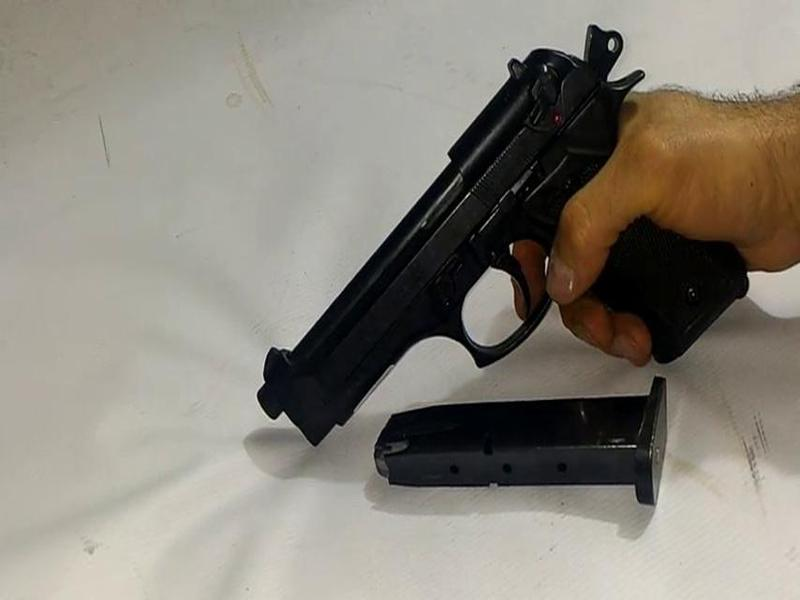Pistola: (274, 24, 768, 445)
